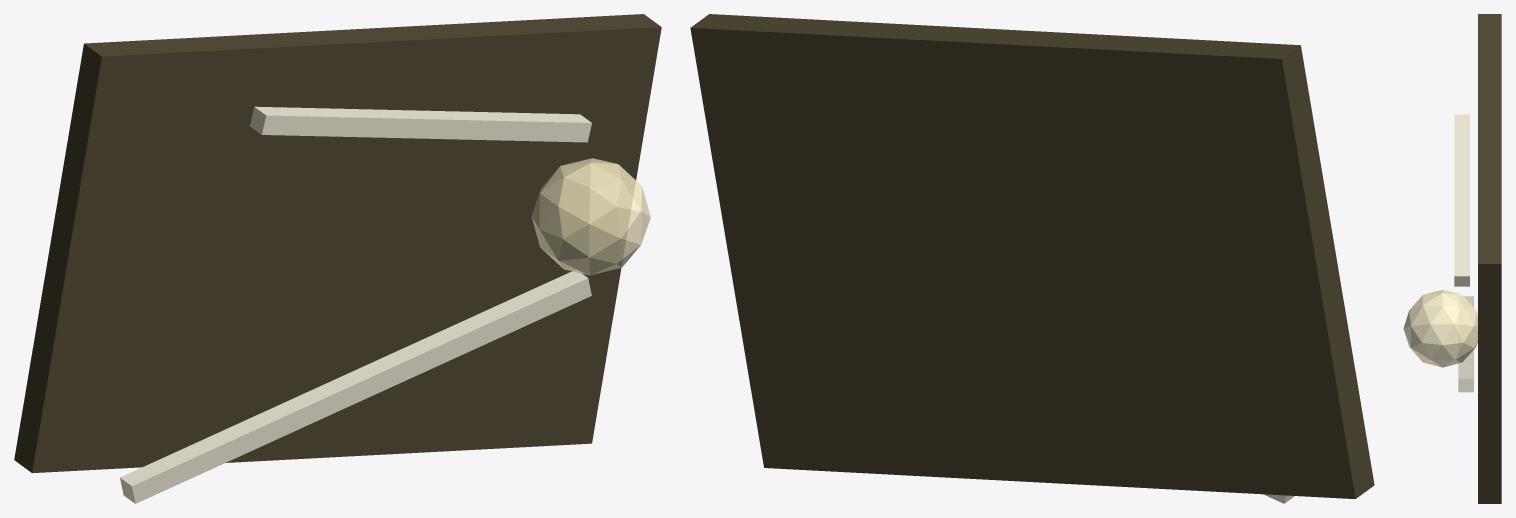
File: 02_world_prop_polish.glb
The picture shows the model from 3 angles, left to right: view 1: azimuth 30°, elevation 25°; view 2: azimuth 150°, elevation 25°; view 3: azimuth 270°, elevation 25°; orthographic projection. The views are drawn at different scales.
Visible parts, largest first — view 1: object_overlay_plate, edge_wear_a, glow_socket, edge_wear_b; view 2: object_overlay_plate; view 3: object_overlay_plate, glow_socket, edge_wear_b, edge_wear_a.
Boxes of the visible parts, <box> form: object_overlay_plate: <box>14,14,661,473</box>; edge_wear_a: <box>120,270,591,503</box>; glow_socket: <box>531,158,650,275</box>; edge_wear_b: <box>250,106,591,142</box>; object_overlay_plate: <box>690,14,1374,498</box>; object_overlay_plate: <box>1478,14,1501,503</box>; glow_socket: <box>1403,289,1477,367</box>; edge_wear_b: <box>1454,114,1469,286</box>; edge_wear_a: <box>1458,296,1473,392</box>.
Size of the model in its own units: 1.22 by 0.9355 by 0.25.
